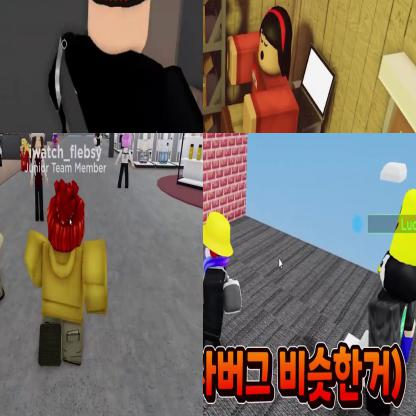Roblox-Avatar: (46, 1, 203, 133), (25, 179, 109, 367), (365, 190, 416, 416), (221, 5, 301, 133), (204, 212, 243, 347), (30, 134, 50, 224), (115, 134, 136, 189)
